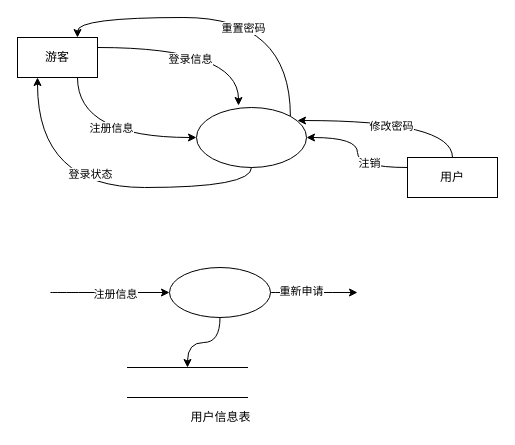
This 515x445 diagram has some shape labels left out. Each missing label, with the centre of its shape:
校验注册信息 1: the point at 219,292
用户管理系统: the point at 251,137
